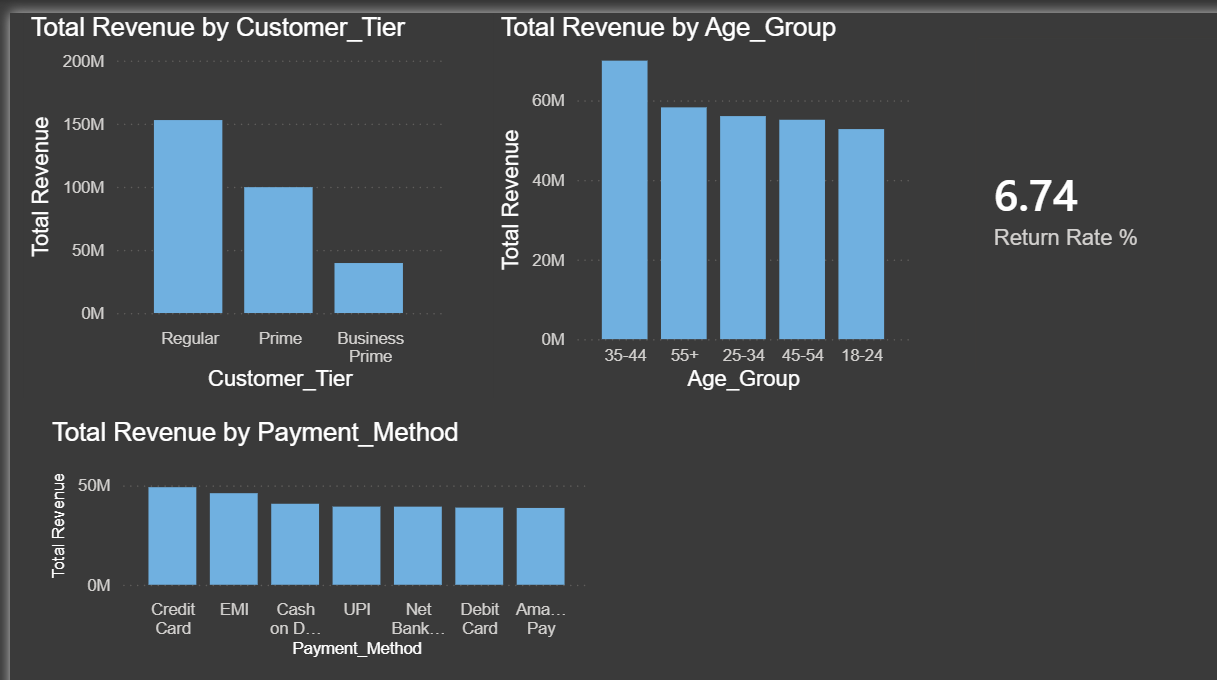

This screenshot's page, from the dashboard's own definition file:
{"tool":"powerbi","page":{"name":"Customer Analytics","canvas":[1280,720],"ordinal":2},"visuals":[{"type":"columnChart","fields":{"Category":["Amazon_India_Sales_Dataset.Customer_Tier"],"Y":["_Measures.Total Revenue"]},"box":[10,0,310,280],"z":0},{"type":"columnChart","fields":{"Y":["_Measures.Total Revenue"],"Category":["Amazon_India_Sales_Dataset.Age_Group"]},"box":[351.7,0,307.5,280],"z":1},{"type":"columnChart","fields":{"Category":["Amazon_India_Sales_Dataset.Payment_Method"],"Y":["_Measures.Total Revenue"]},"box":[25,294.2,402.5,150],"z":2},{"type":"cardVisual","fields":{"Data":["_Measures.Return Rate %"]},"box":[685.8,0,280,280],"z":3}]}

Visuals, with their boxes in screenshot pixels (x1, y1, x2, y2), scaled from the page's 1280x720 canvas onto the 1217x680 screenshot:
columnChart - Amazon_India_Sales_Dataset.Customer_Tier x _Measures.Total Revenue: (x1=10, y1=0, x2=304, y2=264)
columnChart - _Measures.Total Revenue x Amazon_India_Sales_Dataset.Age_Group: (x1=334, y1=0, x2=627, y2=264)
columnChart - Amazon_India_Sales_Dataset.Payment_Method x _Measures.Total Revenue: (x1=24, y1=278, x2=406, y2=420)
cardVisual - _Measures.Return Rate %: (x1=652, y1=0, x2=918, y2=264)
